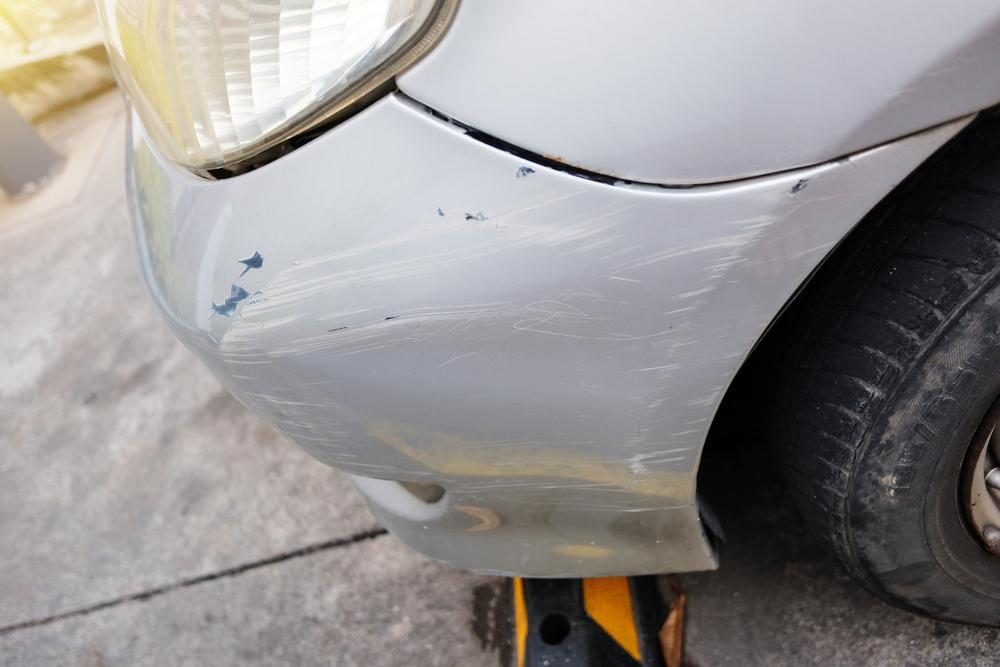scratch: (212, 171, 846, 518)
